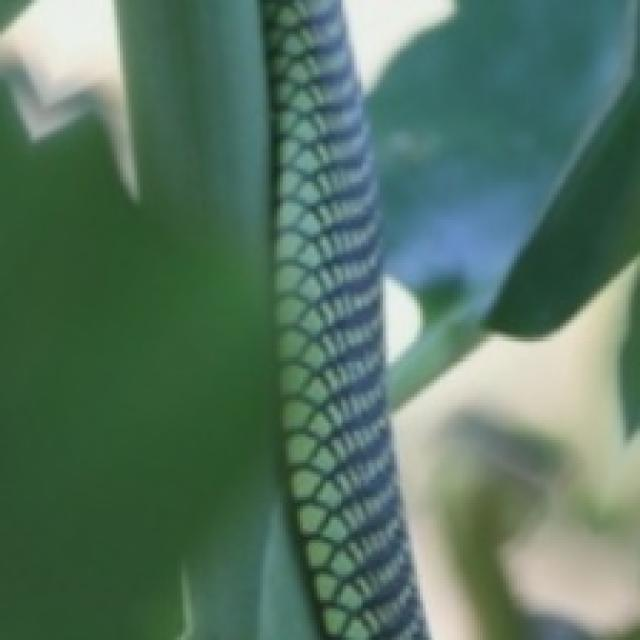paradise tree snake: (0, 0, 423, 637), (263, 0, 426, 637)
